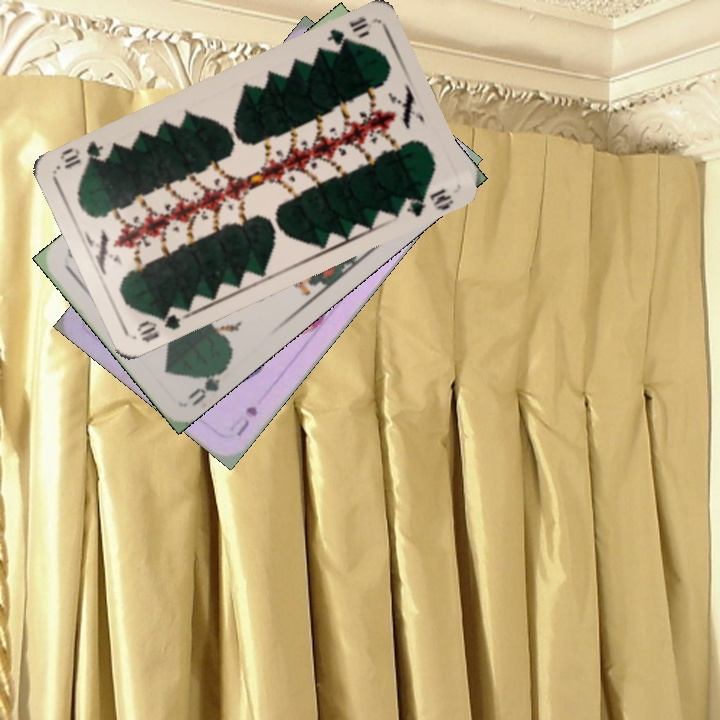G10: (132, 302, 187, 345), (320, 12, 371, 55)
GO: (184, 361, 231, 409)
SU: (225, 402, 261, 439)
